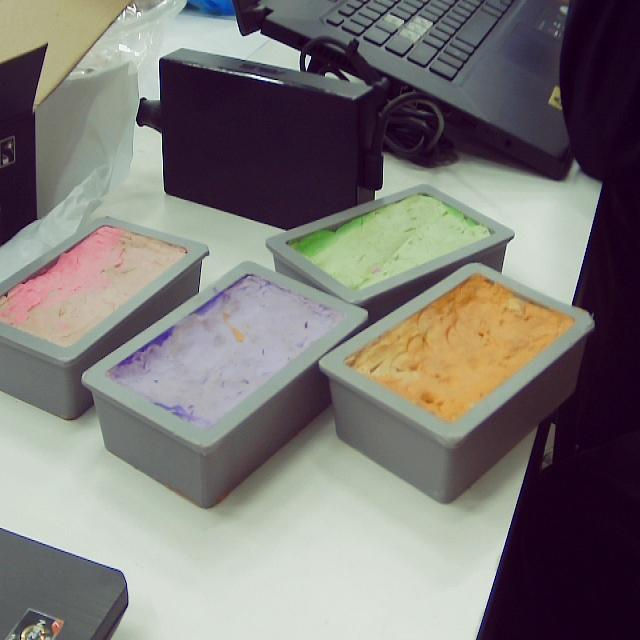block: (83, 258, 367, 508), (313, 260, 588, 505), (1, 212, 210, 421), (266, 182, 513, 330)
